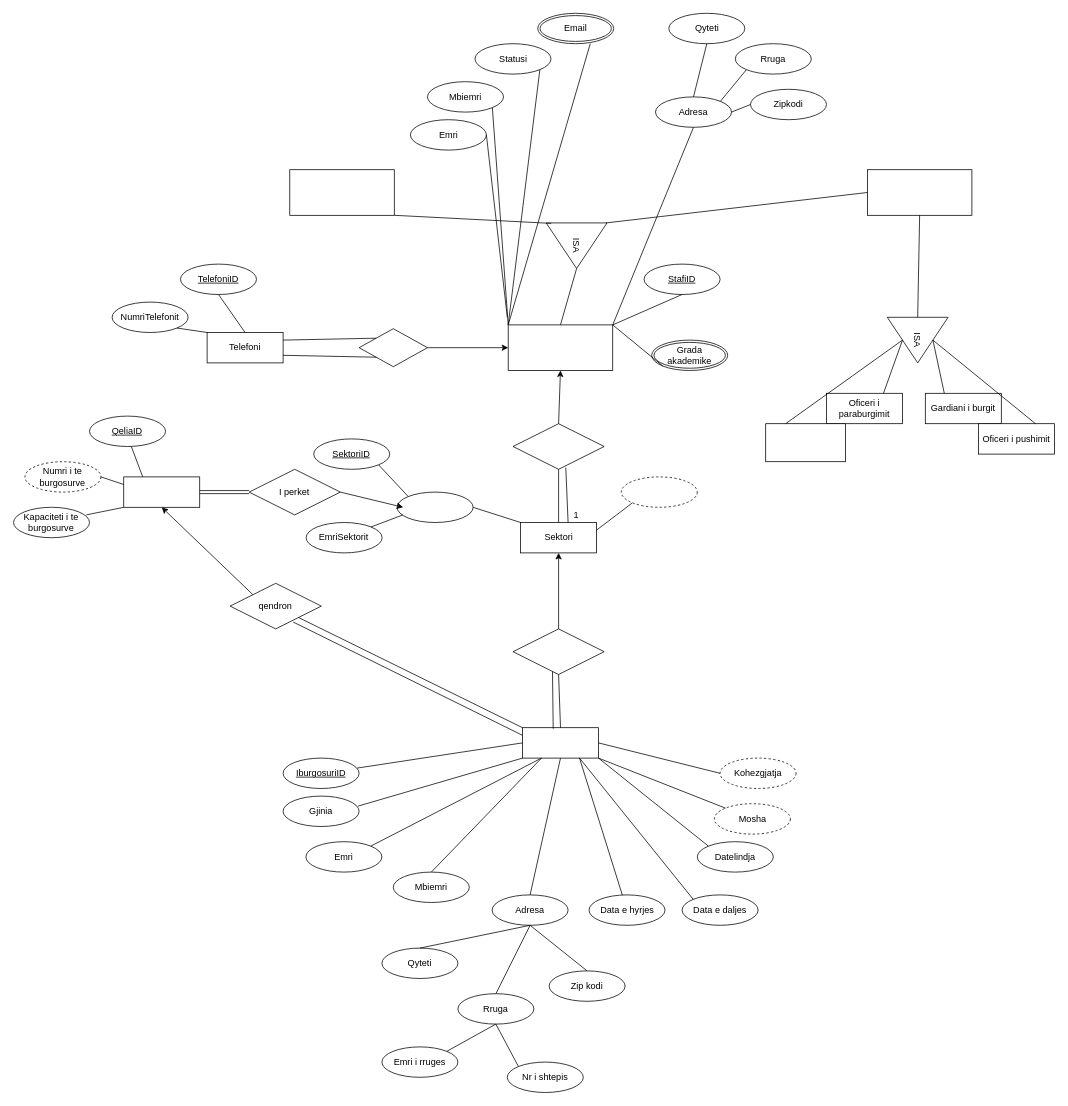
This 1068x1106 diagram has some shape labels left out. Here are the shapes that lost their labels. From the top down, the box of each, then its label:
(289, 169, 394, 215): Medics
(867, 169, 972, 215): Oficeri
(358, 328, 428, 367): Posedon
(507, 324, 613, 370): Stafi
(512, 423, 604, 469): Udheheq
(765, 423, 846, 462): Oficeri korrektues
(123, 476, 200, 507): Qelia
(396, 491, 473, 522): Nr Qelive
(621, 476, 697, 507): Nr i burgosurve
(512, 628, 604, 674): Permban
(522, 727, 598, 758): I burgosuri
